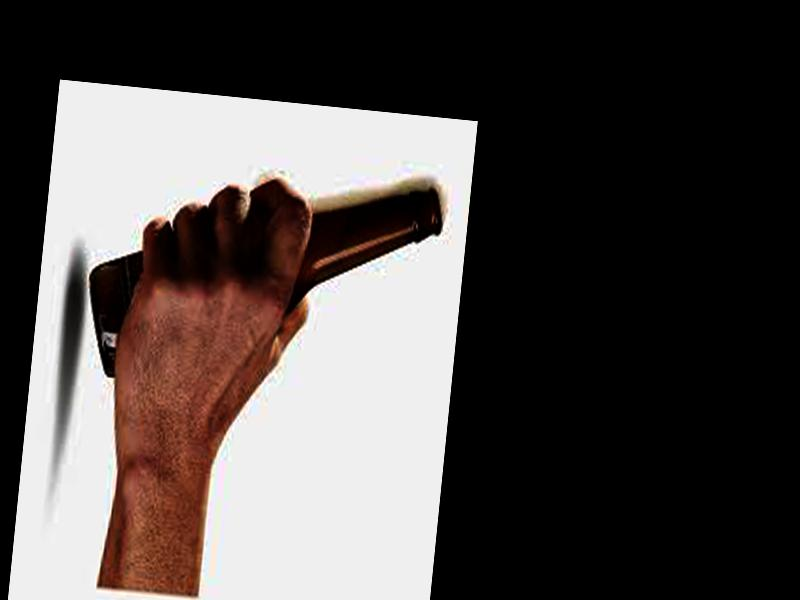Beer: (75, 154, 444, 407)
